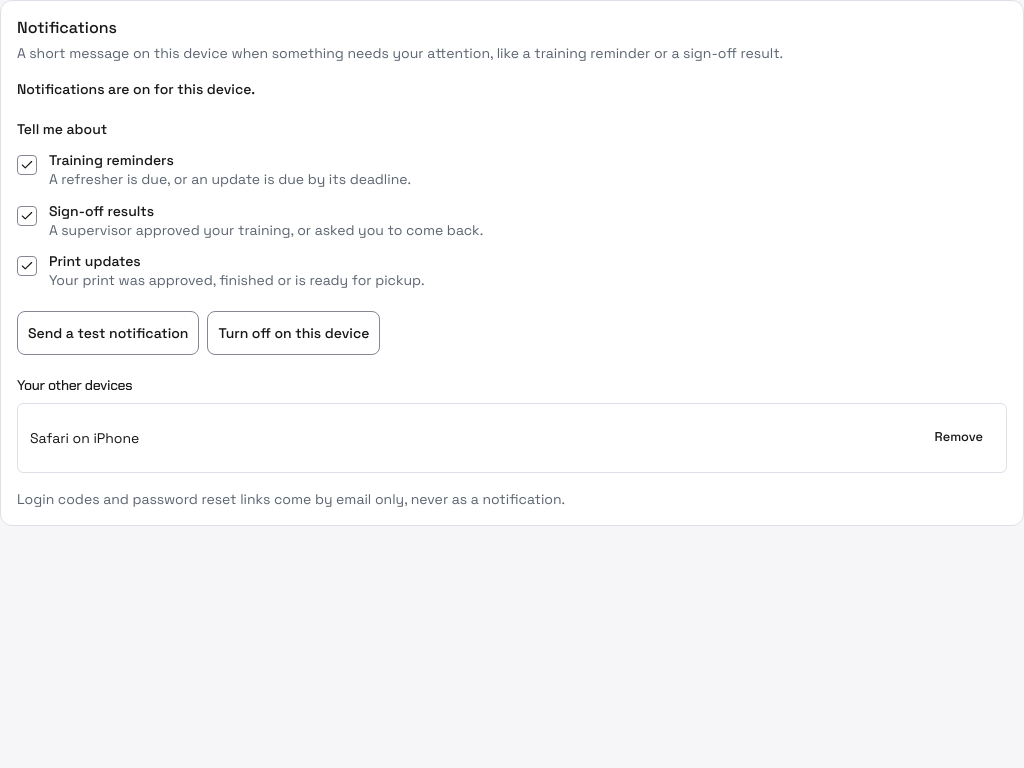
NotificationsCard: when on › lists the other devices, and removes one without touching this device
Expected: the text "Notifications are on for this device." is shown, [17, 80, 255, 98]
Expected: the heading "Your other devices" is shown, [17, 376, 132, 394]
Click the button with aria-label "remove safari on iphone".
click(959, 438)  # box [924, 416, 994, 460]
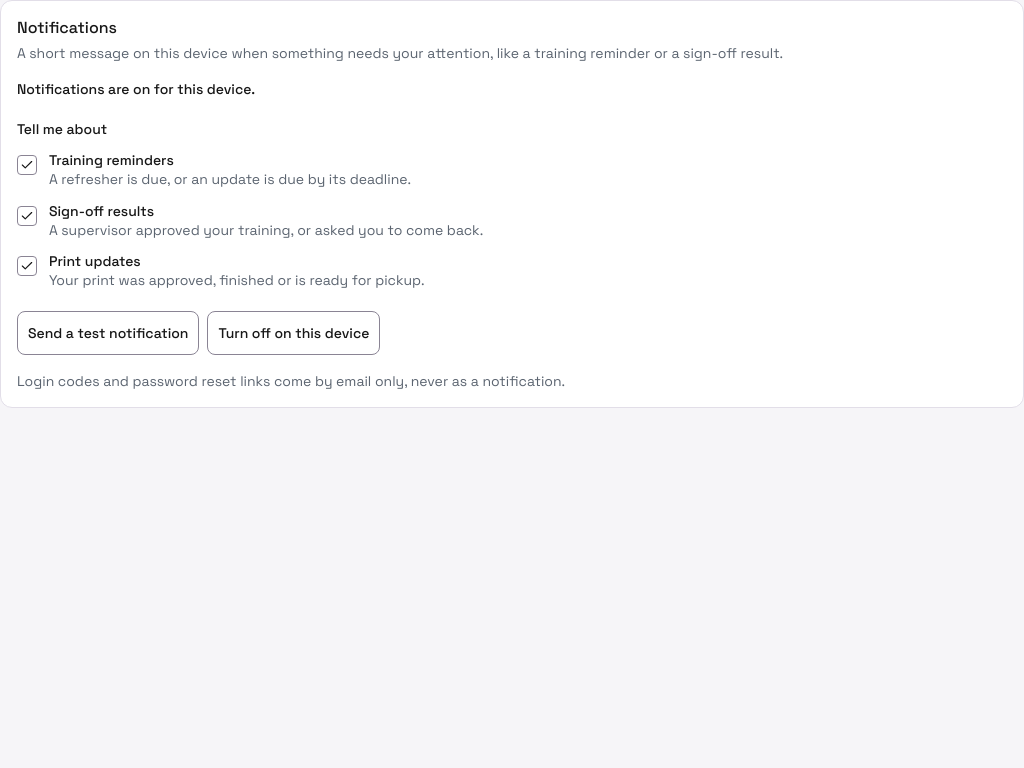
Now the text "Safari on iPhone" is gone
